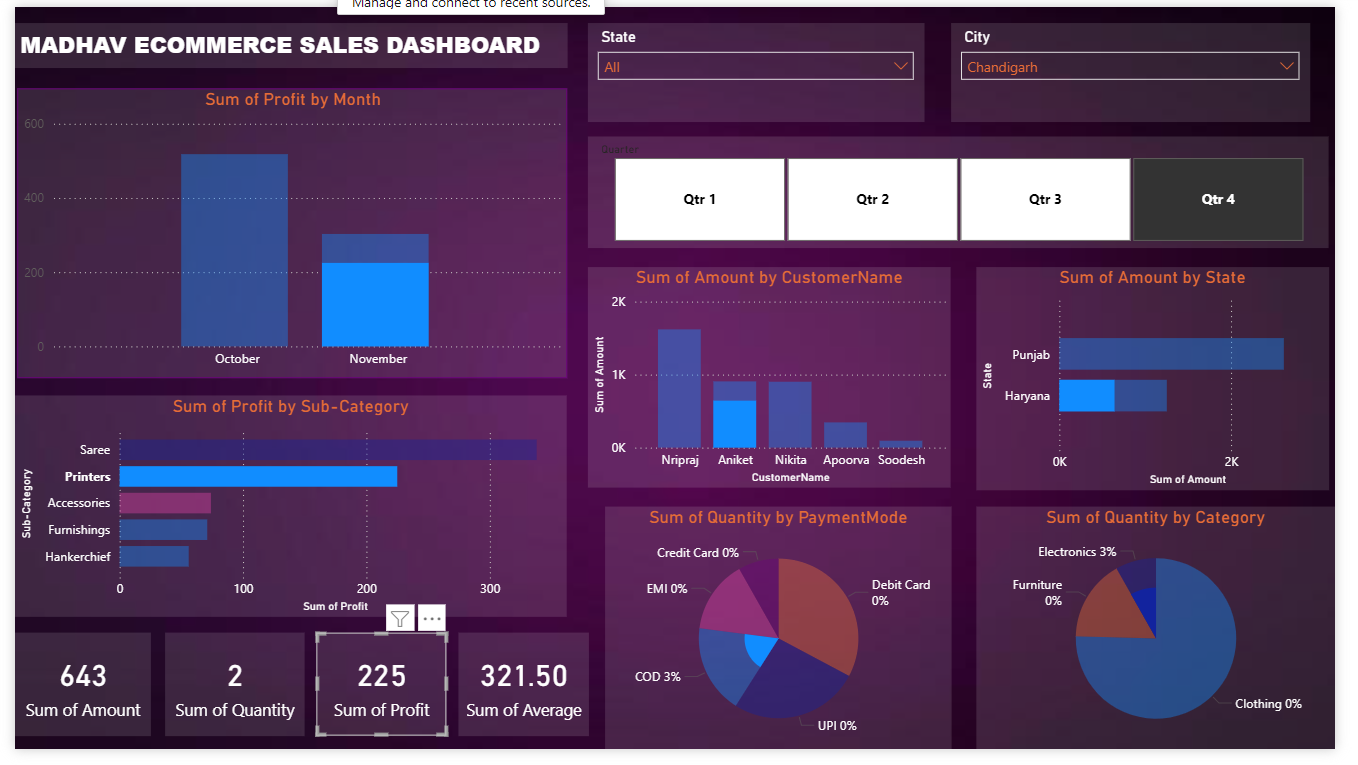

The dashboard page shown, as its layout file describes it:
{"tool":"powerbi","page":{"name":"Page 1","canvas":[1280,720],"ordinal":0},"visuals":[{"type":"textbox","box":[0,16,536,44],"z":0},{"type":"columnChart","fields":{"Category":["Orders.Order Date.Variation.Date Hierarchy.Month"],"Y":["Sum(Details (7).Profit)"]},"box":[2.2,78.9,533.3,281.1],"z":1000},{"type":"barChart","fields":{"Category":["Details (7).Sub-Category"],"Y":["Sum(Details (7).Profit)"]},"box":[0,376.7,535,215],"z":2000},{"type":"pieChart","fields":{"Category":["Details (7).Category"],"Y":["Sum(Details (7).Quantity)"]},"box":[932,484,348,236],"z":3000},{"type":"pieChart","fields":{"Y":["Sum(Details (7).Quantity)"],"Category":["Details (7).PaymentMode"]},"box":[572,484,336,236],"z":4000},{"type":"card","fields":{"Values":["Sum(Details (7).Amount)"]},"box":[0,606.7,131.7,100],"z":5000},{"type":"card","fields":{"Values":["Sum(Details (7).Quantity)"]},"box":[145,606.7,135,100],"z":6000},{"type":"card","fields":{"Values":["Sum(Details (7).Profit)"]},"box":[291.7,606.7,126.7,100],"z":7000},{"type":"card","fields":{"Values":["Sum(Details (7).Average)"]},"box":[430,606.7,126.7,100],"z":8000},{"type":"barChart","fields":{"Category":["Orders.State"],"Y":["Sum(Details (7).Amount)"]},"box":[932,252,342,216],"z":9000},{"type":"columnChart","fields":{"Category":["Orders.CustomerName"],"Y":["Sum(Details (7).Amount)"]},"box":[556,252,352,214],"z":10000},{"type":"slicer","fields":{"Values":["Orders.State"]},"box":[556,16,326,96],"z":11000},{"type":"slicer","fields":{"Values":["Orders.Order Date.Variation.Date Hierarchy.Quarter"]},"box":[556,126,718,108],"z":11001},{"type":"slicer","fields":{"Values":["Orders.City"]},"box":[908,16,348,96],"z":11002}]}

Visuals, with their boxes in screenshot pixels (x1, y1, x2, y2):
textbox: 7, 6, 568, 52
columnChart - Orders.Order Date.Variation.Date Hierarchy.Month x Sum(Details (7).Profit): 9, 72, 567, 366
barChart - Details (7).Sub-Category x Sum(Details (7).Profit): 7, 384, 567, 608
pieChart - Details (7).Category x Sum(Details (7).Quantity): 982, 496, 1346, 743
pieChart - Sum(Details (7).Quantity) x Details (7).PaymentMode: 606, 496, 957, 743
card - Sum(Details (7).Amount): 7, 624, 145, 729
card - Sum(Details (7).Quantity): 159, 624, 300, 729
card - Sum(Details (7).Profit): 312, 624, 445, 729
card - Sum(Details (7).Average): 457, 624, 590, 729
barChart - Orders.State x Sum(Details (7).Amount): 982, 253, 1340, 479
columnChart - Orders.CustomerName x Sum(Details (7).Amount): 589, 253, 957, 477
slicer - Orders.State: 589, 6, 930, 107
slicer - Orders.Order Date.Variation.Date Hierarchy.Quarter: 589, 121, 1340, 234
slicer - Orders.City: 957, 6, 1321, 107
